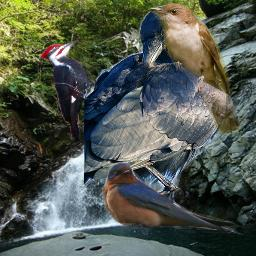Crow: (84, 5, 226, 212)
Cuckoo: (146, 0, 239, 135)
Swallow: (102, 162, 248, 237)
Woodpecker: (39, 40, 95, 141)
